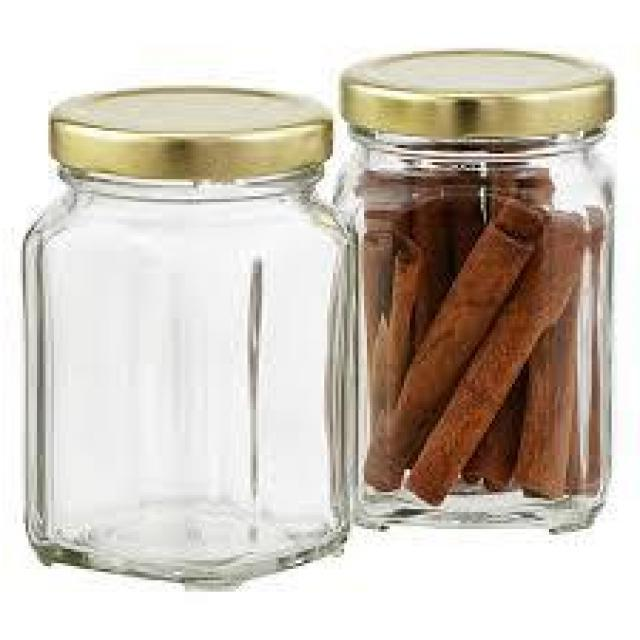glass: (10, 78, 357, 596)
